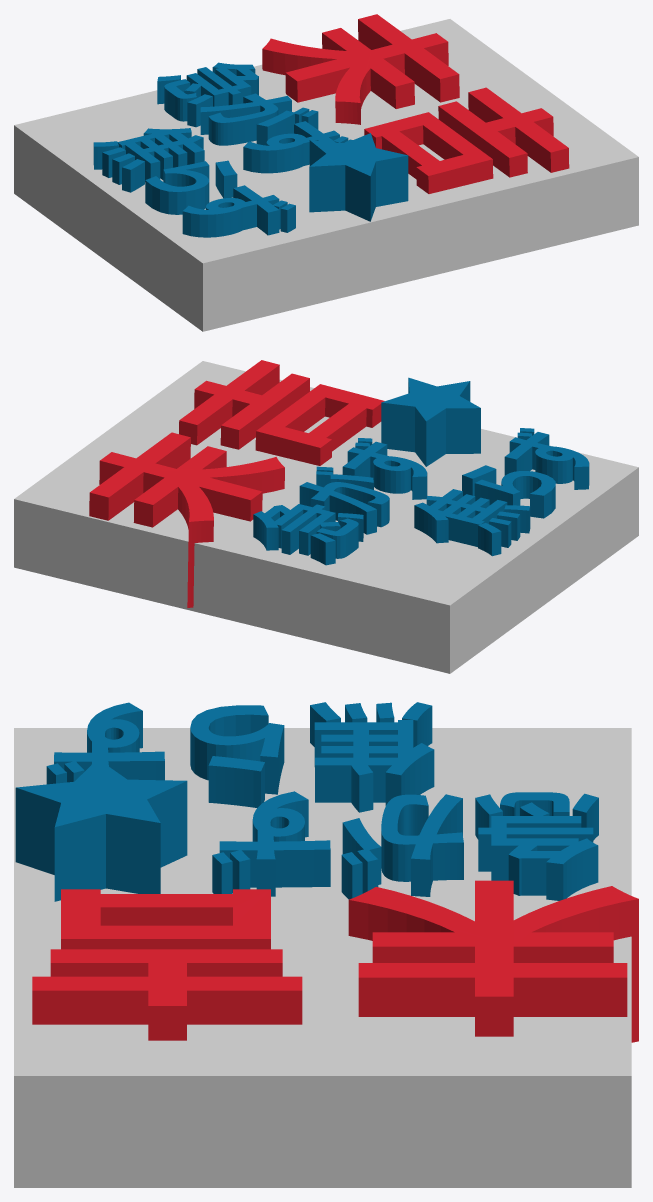
Rendered from tinker.obj.
The picture shows the model from 3 angles, top to bottom: view 1: azimuth 30°, elevation 25°; view 2: azimuth 150°, elevation 25°; view 3: azimuth 270°, elevation 25°; orthographic projection. The views are drawn at different scales.
Visible parts, largest first — view 1: group_0_16448250, group_0_30377, group_0_15277357; view 2: group_0_16448250, group_0_30377, group_0_15277357; view 3: group_0_16448250, group_0_30377, group_0_15277357.
Boxes of the visible parts, x1=… form: group_0_16448250: x1=14, y1=19, x2=638, y2=331; group_0_30377: x1=93, y1=62, x2=408, y2=237; group_0_15277357: x1=262, y1=14, x2=569, y2=193; group_0_16448250: x1=14, y1=361, x2=638, y2=673; group_0_30377: x1=253, y1=377, x2=589, y2=565; group_0_15277357: x1=89, y1=360, x2=384, y2=607; group_0_16448250: x1=14, y1=728, x2=631, y2=1187; group_0_30377: x1=15, y1=702, x2=598, y2=901; group_0_15277357: x1=32, y1=880, x2=638, y2=1042.
Bounding box in the file's own units: 20 × 5 × 15.18.
